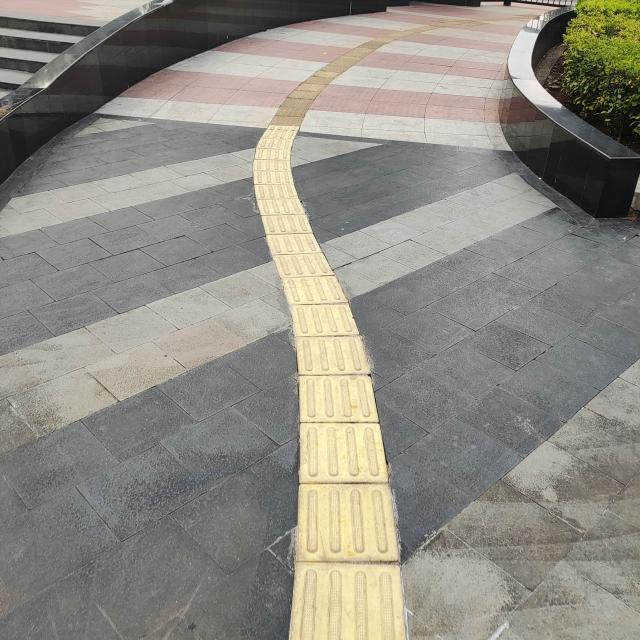lurus: (251, 170, 410, 640)
